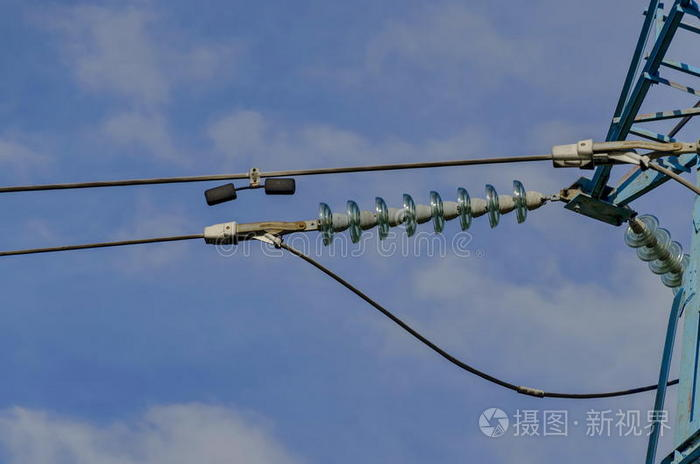insulator: (317, 176, 533, 249), (627, 212, 690, 290)
